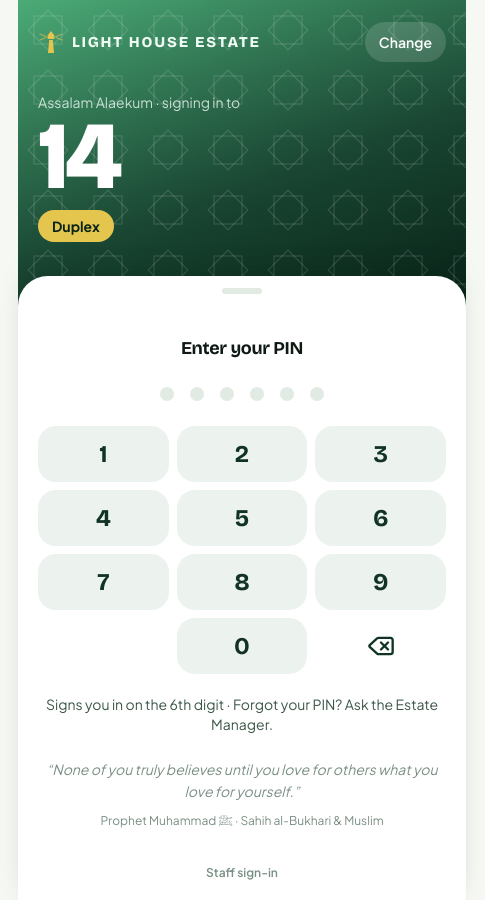
Test: Resident login › still signs in a phone that remembered an old label like 'Main house'
This screenshot has width=485, height=900.
Expected: the text "Duplex" is shown, [38,210,114,242]
Click the button "2" at point(242, 454), box [177,426,307,482]
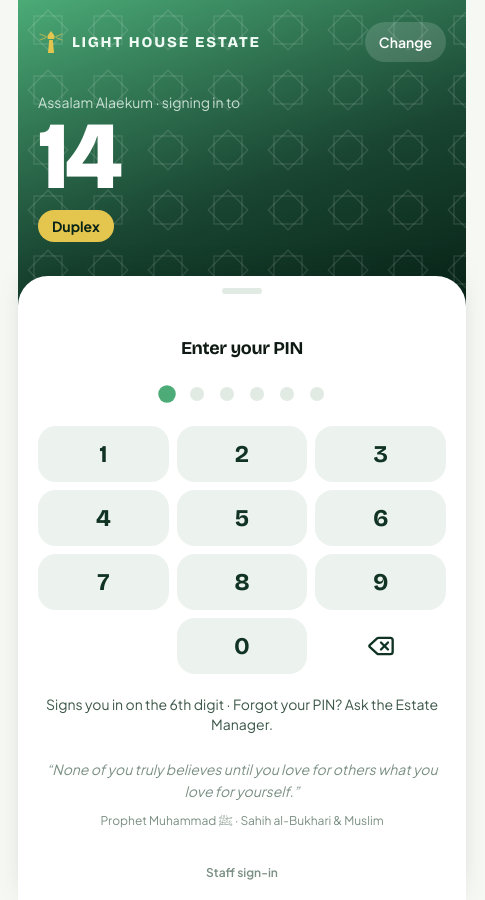
Click the button "4" at point(103, 518), box [38,490,169,546]
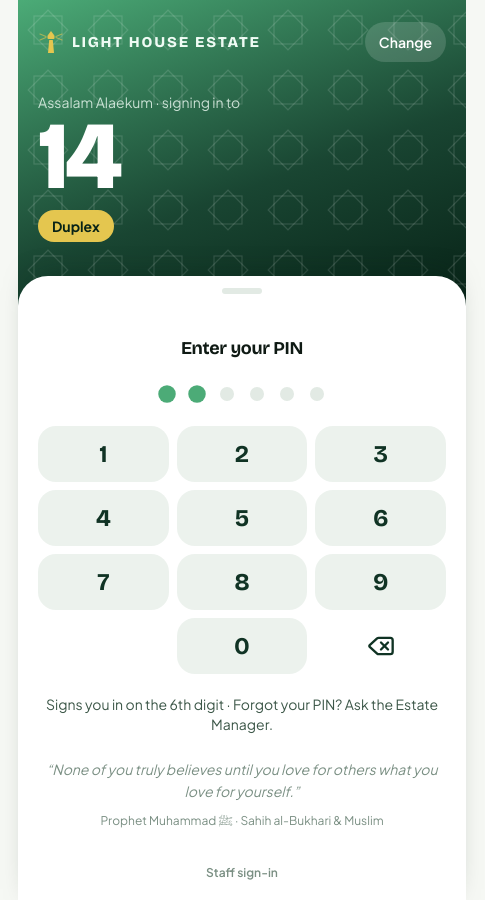
Click the button "6" at point(381, 518), box [315,490,446,546]
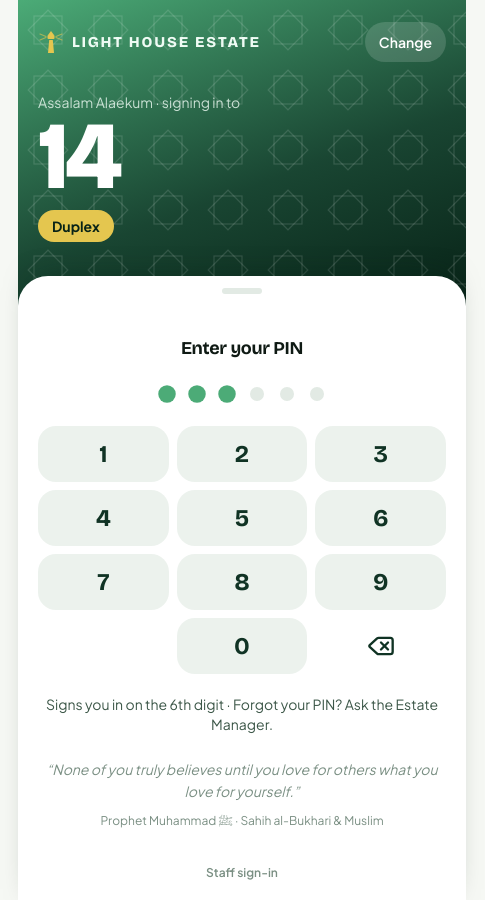
Click the button "8" at point(242, 582), box [177,554,307,610]
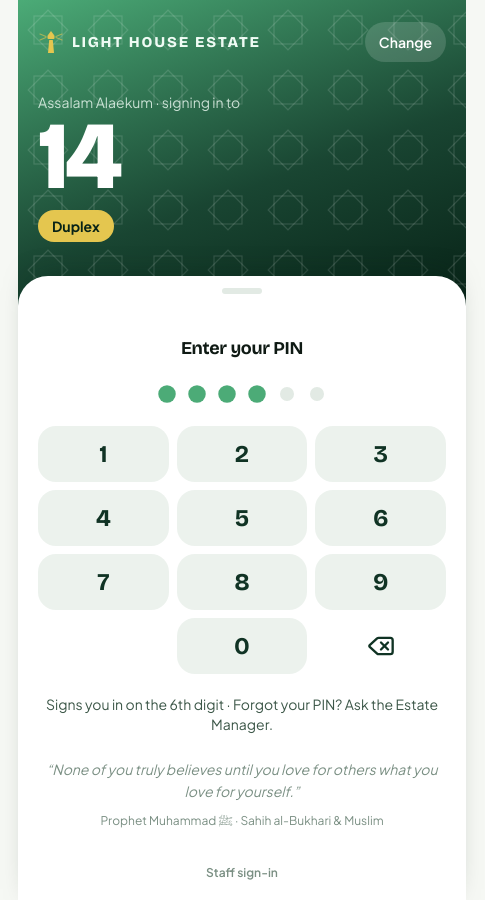
Click the button "1" at point(103, 454), box [38,426,169,482]
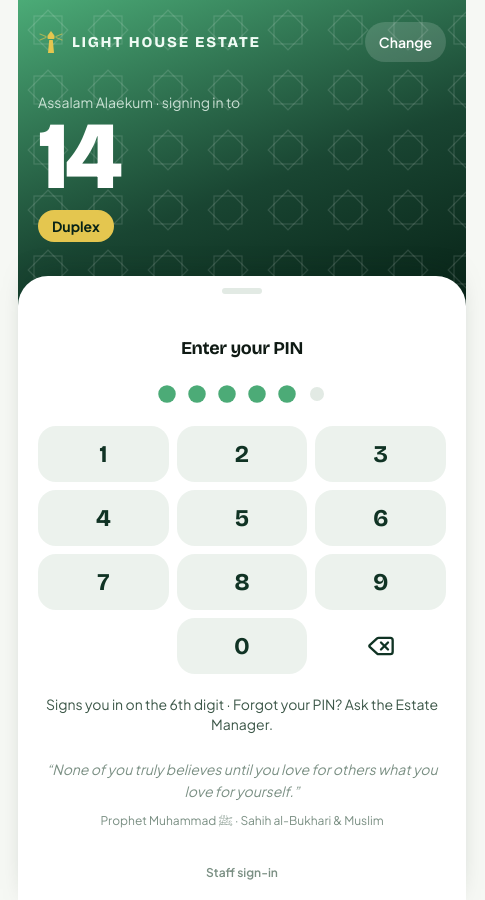
Click the button "0" at point(242, 646), box [177,618,307,674]
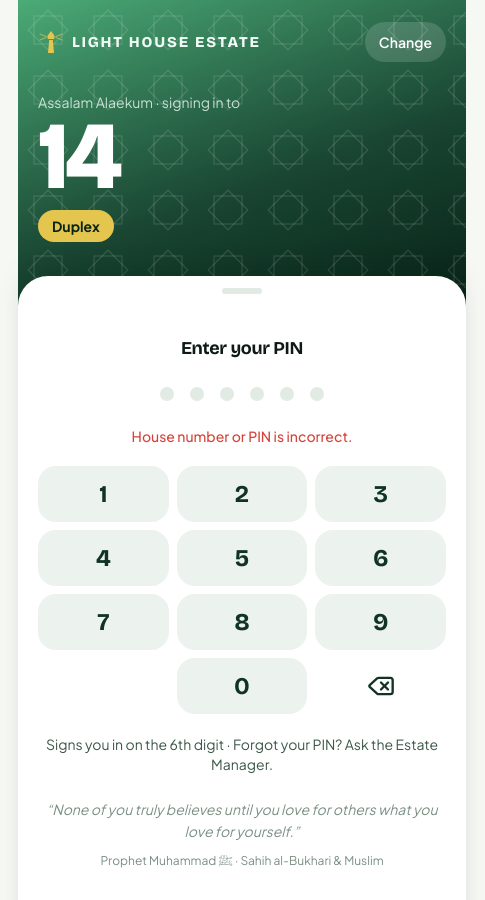
Now the message "House number or PIN is incorrect." is shown, box [132,427,352,445]
